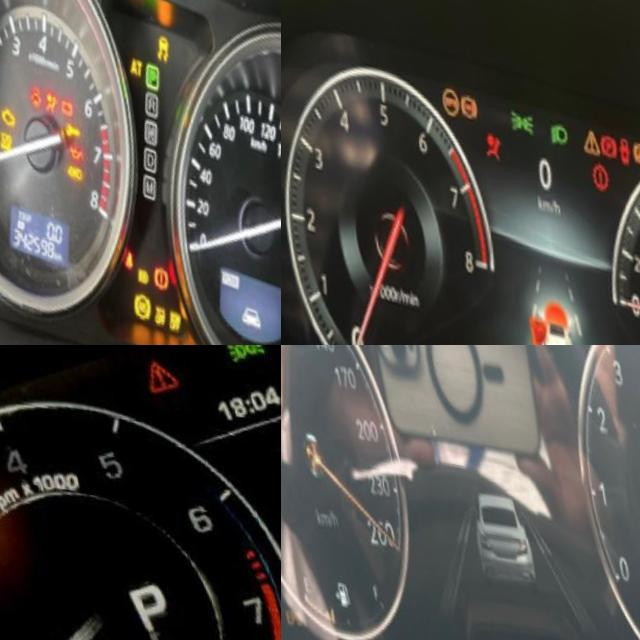Central Warning lamp: (572, 108, 597, 144)
Doors: (16, 66, 41, 107), (607, 114, 629, 150)
Low beam: (537, 100, 566, 136)
